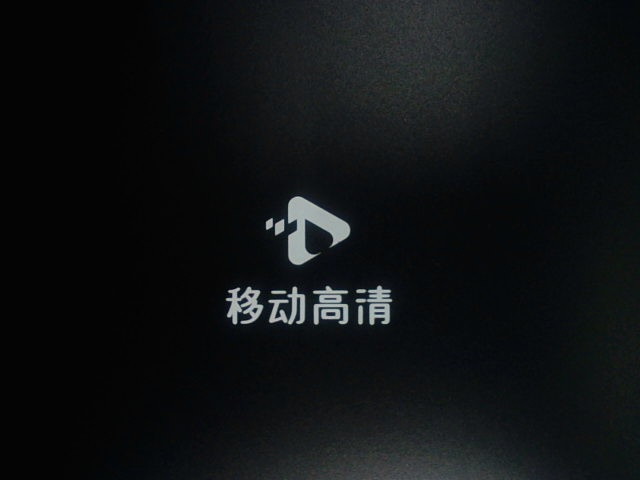AO_MobileHD: (196, 175, 430, 337)
